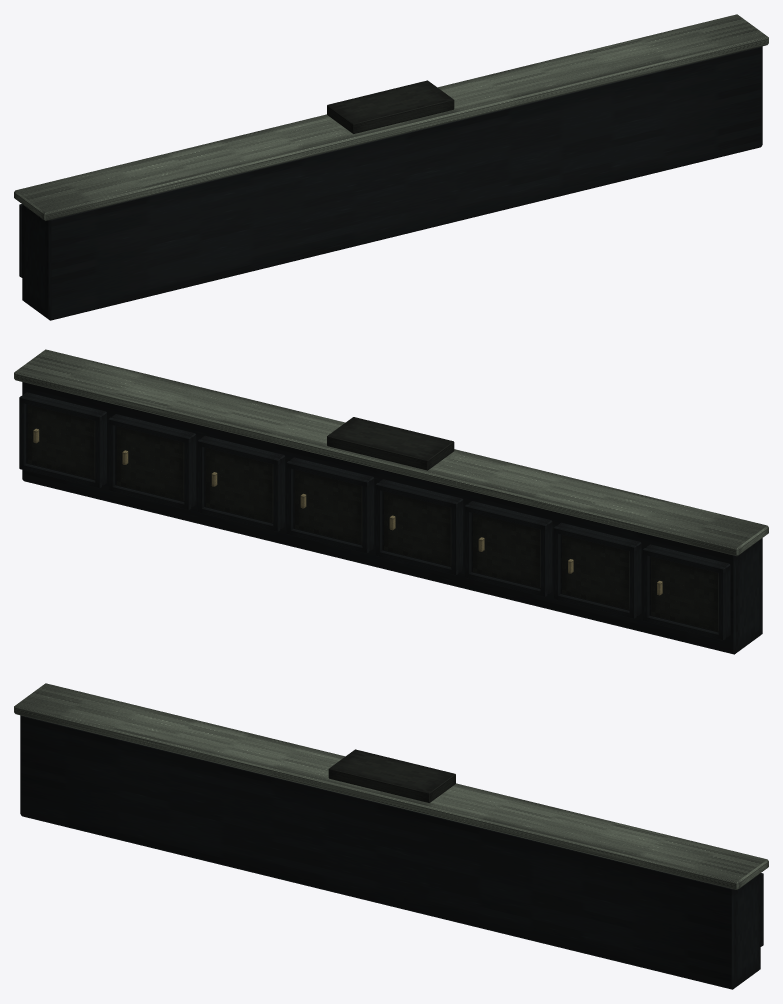
File: THStage_BackArchiveCabinet.fbx
3 views of the same model, one above another, from view 1: azimuth 30°, elevation 25°; view 2: azimuth 150°, elevation 25°; view 3: azimuth 330°, elevation 25° (orthographic).
Visible parts, largest first — view 1: THStage_BackArchiveCabinet; view 2: THStage_BackArchiveCabinet; view 3: THStage_BackArchiveCabinet.
Boxes of the visible parts, left/top/right/bottom form: THStage_BackArchiveCabinet: left=14, top=14, right=768, bottom=320; THStage_BackArchiveCabinet: left=14, top=349, right=768, bottom=654; THStage_BackArchiveCabinet: left=14, top=683, right=768, bottom=989.
Bounding box in the file's own units: 4.72 × 0.7535 × 0.425.
Materials: 1 (1 with a texture image).
